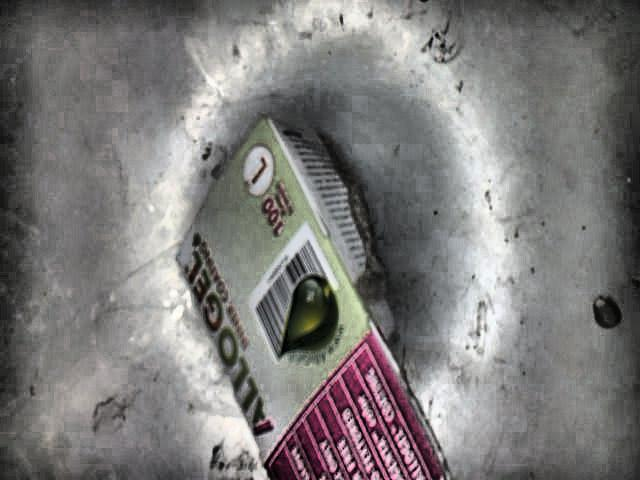Paper: (172, 119, 453, 480)
